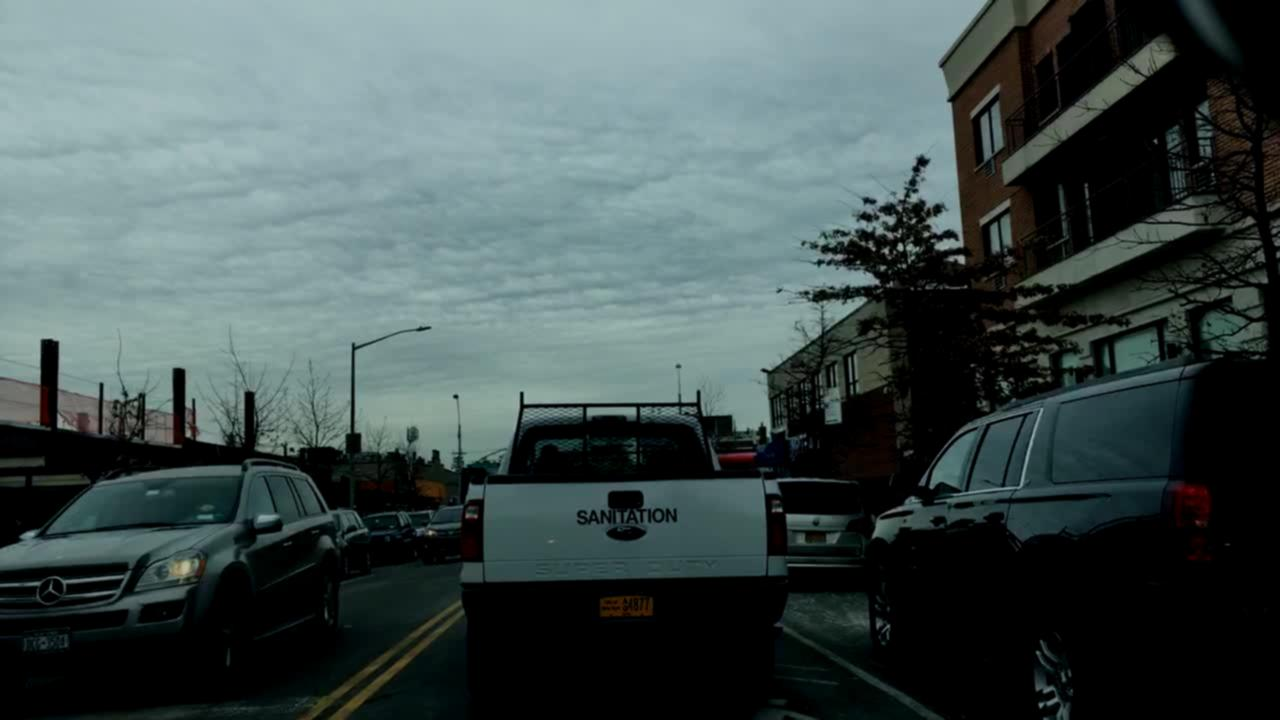Mercedes: (33, 571, 69, 608)
